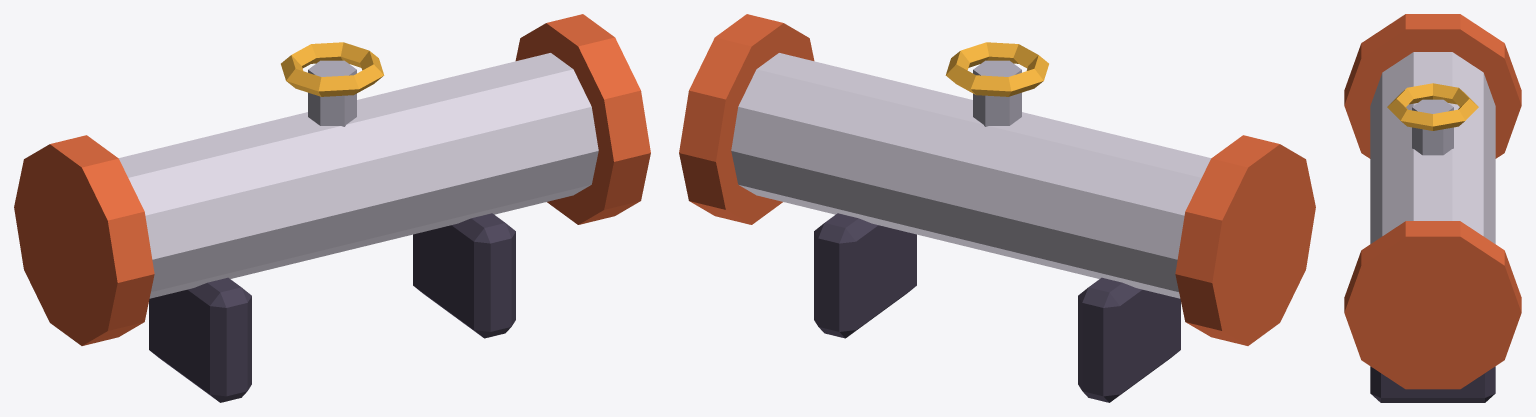
The model's file is MOONSHIFT_AIR_Pipe_Straight.glb.
The picture shows the model from 3 angles, left to right: view 1: azimuth 30°, elevation 25°; view 2: azimuth 150°, elevation 25°; view 3: azimuth 270°, elevation 25°; orthographic projection. The views are drawn at different scales.
Visible parts, largest first — view 1: PipeS_Tube, PipeS_Flange0, PipeS_Flange1, PipeS_Support0, PipeS_Support1, PipeS_ValveWheel, PipeS_Valve; view 2: PipeS_Tube, PipeS_Flange0, PipeS_Flange1, PipeS_Support0, PipeS_Support1, PipeS_ValveWheel, PipeS_Valve; view 3: PipeS_Flange1, PipeS_Tube, PipeS_Flange0, PipeS_ValveWheel, PipeS_Support1, PipeS_Valve.
Boxes of the visible parts, <box> form: PipeS_Tube: <box>118,53,598,298</box>; PipeS_Flange0: <box>14,135,154,345</box>; PipeS_Flange1: <box>515,14,650,224</box>; PipeS_Support0: <box>149,277,251,402</box>; PipeS_Support1: <box>413,213,515,338</box>; PipeS_ValveWheel: <box>281,42,384,96</box>; PipeS_Valve: <box>308,60,356,126</box>; PipeS_Tube: <box>731,53,1211,298</box>; PipeS_Flange0: <box>1175,135,1315,345</box>; PipeS_Flange1: <box>679,14,814,224</box>; PipeS_Support0: <box>1078,277,1180,402</box>; PipeS_Support1: <box>814,213,916,338</box>; PipeS_ValveWheel: <box>945,42,1048,96</box>; PipeS_Valve: <box>973,60,1021,126</box>; PipeS_Flange1: <box>1344,221,1521,389</box>; PipeS_Tube: <box>1370,52,1495,243</box>; PipeS_Flange0: <box>1344,14,1521,158</box>; PipeS_ValveWheel: <box>1387,83,1478,130</box>; PipeS_Support1: <box>1370,366,1495,402</box>; PipeS_Valve: <box>1412,99,1453,155</box>.
Bounding box in the file's own units: 1.01 × 0.518 × 0.34.
